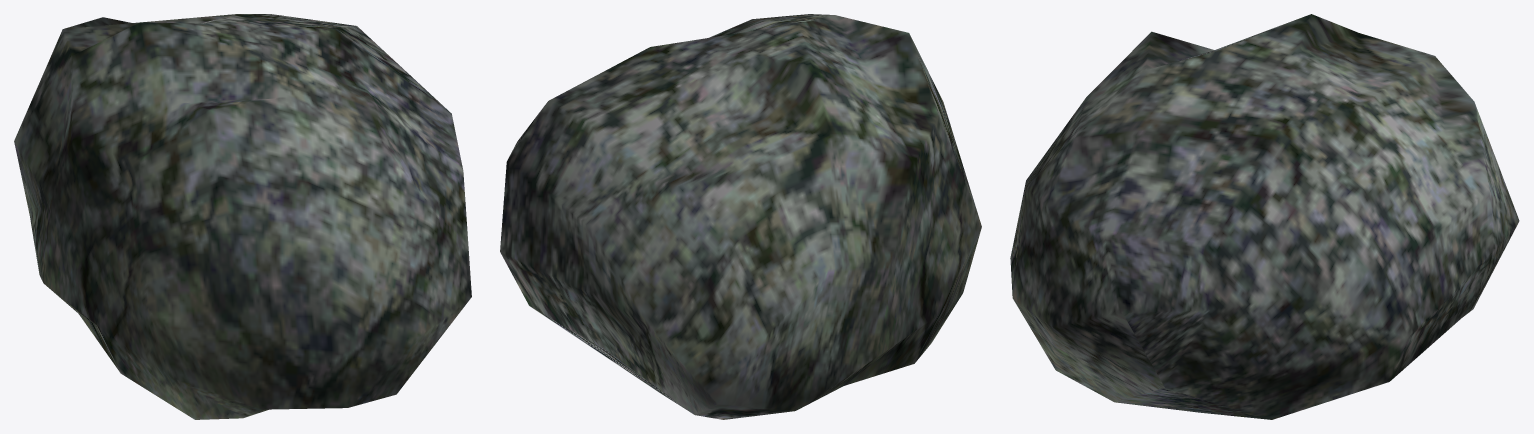
Rendered from rock_med01.dae.
3 views of the same model, side by side, from view 1: azimuth 30°, elevation 25°; view 2: azimuth 150°, elevation 25°; view 3: azimuth 270°, elevation 25° (orthographic). The views are drawn at different scales.
Visible parts, largest first — view 1: stone_med01_mesh; view 2: stone_med01_mesh; view 3: stone_med01_mesh.
Part boxes in pixels (<box>): stone_med01_mesh: <box>14,14,471,419</box>; stone_med01_mesh: <box>500,14,981,419</box>; stone_med01_mesh: <box>1010,14,1519,419</box>.
Size of the model in its own units: 0.5873 by 0.4941 by 0.7098.
